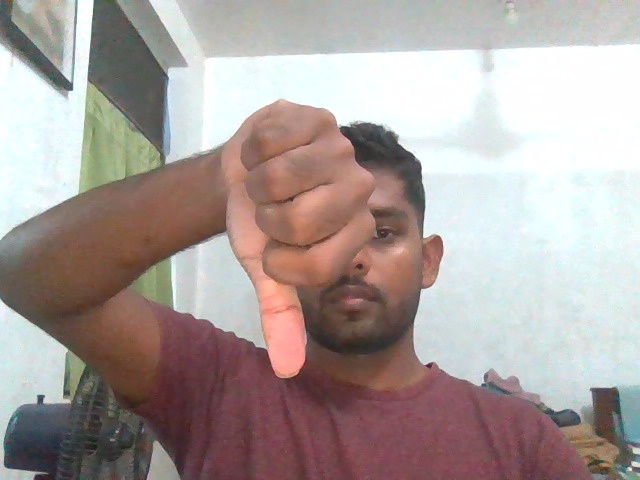dontlike: (205, 96, 383, 391)
